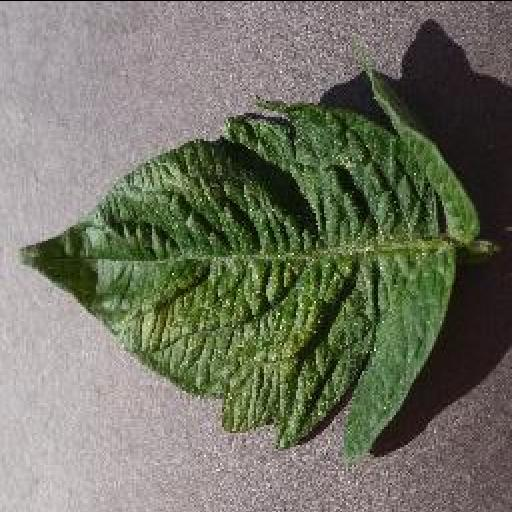disease_tomato: (18, 70, 480, 460)
